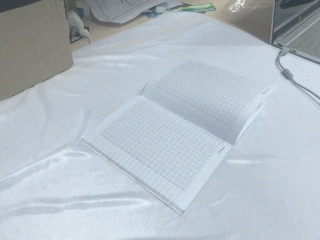box: (1, 1, 73, 107)
